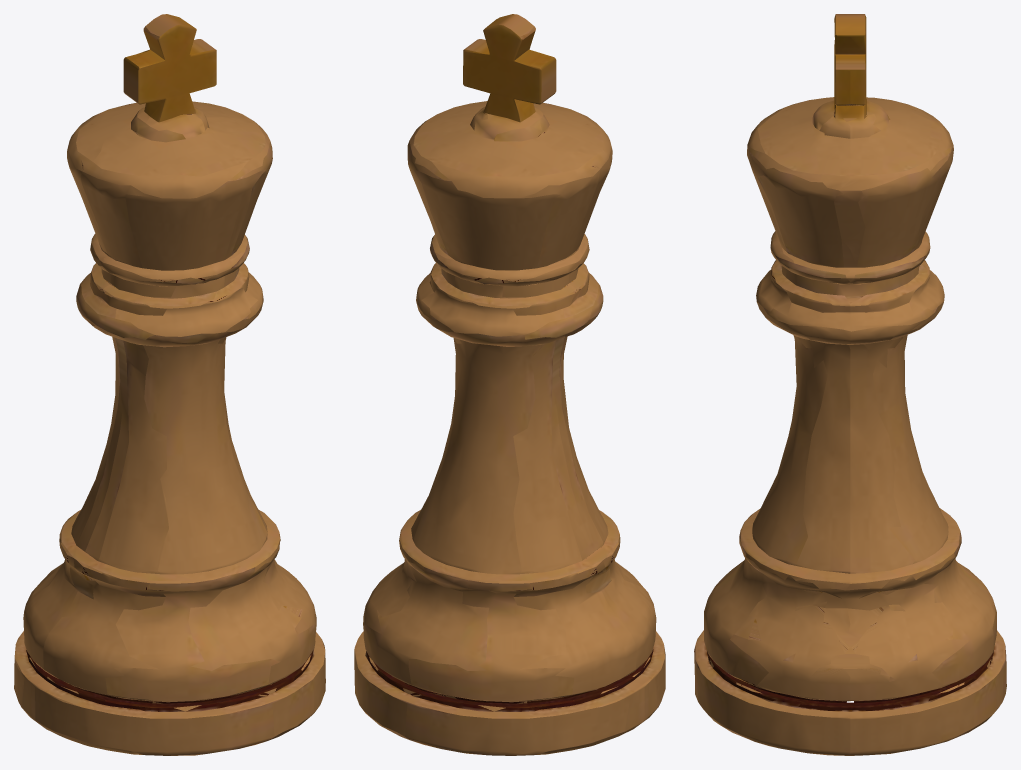
The model's file is white-king.glb.
The picture shows the model from 3 angles, left to right: view 1: azimuth 30°, elevation 25°; view 2: azimuth 150°, elevation 25°; view 3: azimuth 270°, elevation 25°; orthographic projection.
Visible parts, largest first — view 1: world; view 2: world; view 3: world.
Part boxes in pixels (bbox=[...]): world: bbox=[14, 14, 325, 755]; world: bbox=[354, 14, 665, 755]; world: bbox=[694, 14, 1006, 755].
Size of the model in its own units: 0.4203 by 1 by 0.4199.
Materials: 1 (1 with a texture image).
